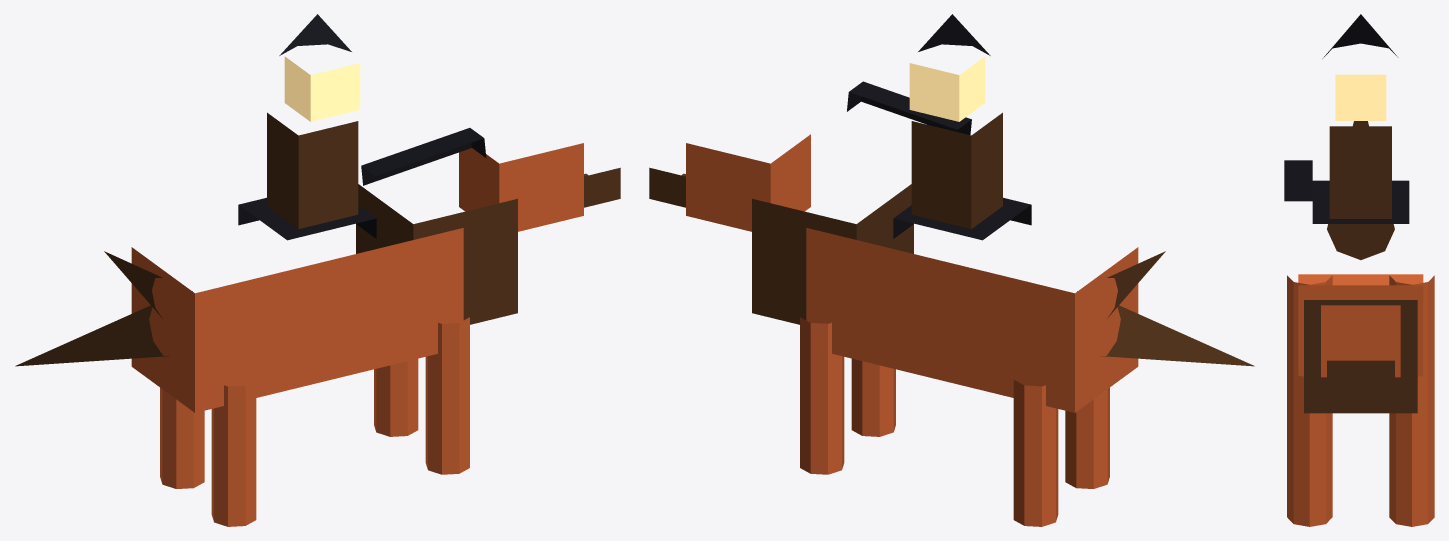
The model's file is snapfire.glb.
3 renders of one model, left to right at view 1: azimuth 30°, elevation 25°; view 2: azimuth 150°, elevation 25°; view 3: azimuth 270°, elevation 25°, orthographic.
Visible parts, largest first — view 1: snapfire-mount-body, snapfire-mount-chest, snapfire-rider-body, snapfire-head, snapfire-leg-fl, snapfire-leg-bl, snapfire-tail, snapfire-leg-br, snapfire-rider-head, snapfire-leg-fr, snapfire-scattergun, snapfire-saddle (+2 smaller); view 2: snapfire-mount-body, snapfire-mount-chest, snapfire-rider-body, snapfire-head, snapfire-leg-fr, snapfire-leg-br, snapfire-tail, snapfire-leg-bl, snapfire-rider-head, snapfire-leg-fl, snapfire-saddle, snapfire-scattergun (+2 smaller); view 3: snapfire-mount-chest, snapfire-rider-body, snapfire-leg-fr, snapfire-leg-fl, snapfire-head, snapfire-mount-body, snapfire-rider-head, snapfire-jaw, snapfire-tail, snapfire-saddle, snapfire-leg-bl, snapfire-leg-br (+2 smaller).
Part boxes in pixels (bbox=[...]): snapfire-mount-body: bbox=[131, 228, 463, 412]; snapfire-mount-chest: bbox=[356, 184, 517, 324]; snapfire-rider-body: bbox=[267, 112, 358, 228]; snapfire-head: bbox=[459, 143, 583, 231]; snapfire-leg-fl: bbox=[425, 317, 469, 474]; snapfire-leg-bl: bbox=[211, 380, 256, 526]; snapfire-tail: bbox=[15, 251, 192, 366]; snapfire-leg-br: bbox=[160, 387, 204, 488]; snapfire-rider-head: bbox=[284, 56, 360, 121]; snapfire-leg-fr: bbox=[374, 358, 418, 436]; snapfire-scattergun: bbox=[361, 128, 486, 185]; snapfire-saddle: bbox=[238, 197, 376, 240]; snapfire-mount-body: bbox=[806, 228, 1138, 412]; snapfire-mount-chest: bbox=[752, 184, 913, 324]; snapfire-rider-body: bbox=[911, 112, 1002, 228]; snapfire-head: bbox=[686, 134, 810, 231]; snapfire-leg-fr: bbox=[800, 317, 844, 474]; snapfire-leg-br: bbox=[1013, 380, 1058, 526]; snapfire-tail: bbox=[1077, 251, 1254, 366]; snapfire-leg-bl: bbox=[1065, 387, 1109, 488]; snapfire-rider-head: bbox=[909, 56, 985, 121]; snapfire-leg-fl: bbox=[851, 358, 895, 436]; snapfire-saddle: bbox=[893, 197, 1031, 240]; snapfire-scattergun: bbox=[847, 81, 971, 134]; snapfire-mount-chest: bbox=[1304, 300, 1417, 413]; snapfire-rider-body: bbox=[1329, 126, 1391, 218]; snapfire-leg-fr: bbox=[1389, 368, 1434, 526]; snapfire-leg-fl: bbox=[1287, 368, 1332, 526]; snapfire-head: bbox=[1321, 305, 1400, 377]; snapfire-mount-body: bbox=[1298, 274, 1423, 376]; snapfire-rider-head: bbox=[1335, 74, 1386, 120]; snapfire-jaw: bbox=[1327, 360, 1394, 391]; snapfire-tail: bbox=[1327, 121, 1394, 259]; snapfire-saddle: bbox=[1312, 180, 1409, 223]; snapfire-leg-bl: bbox=[1287, 275, 1332, 375]; snapfire-leg-br: bbox=[1389, 275, 1434, 375].
Size of the model in its own units: 2.37 by 1.76 by 0.53.
